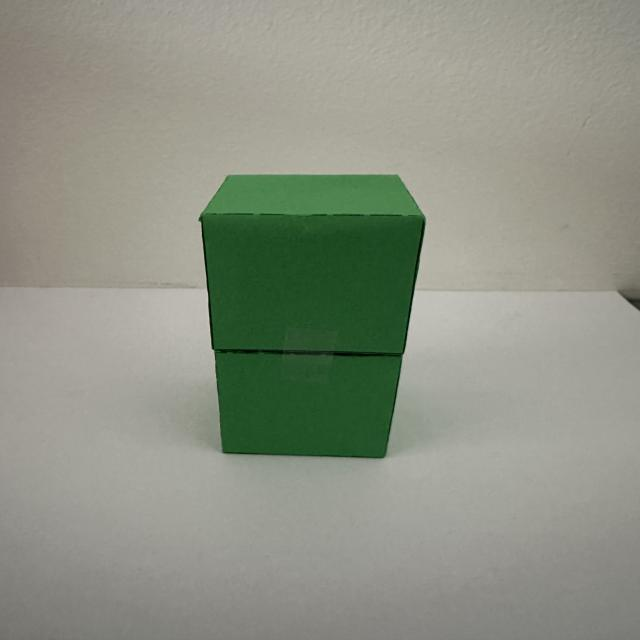green_cube: (196, 164, 445, 468)
